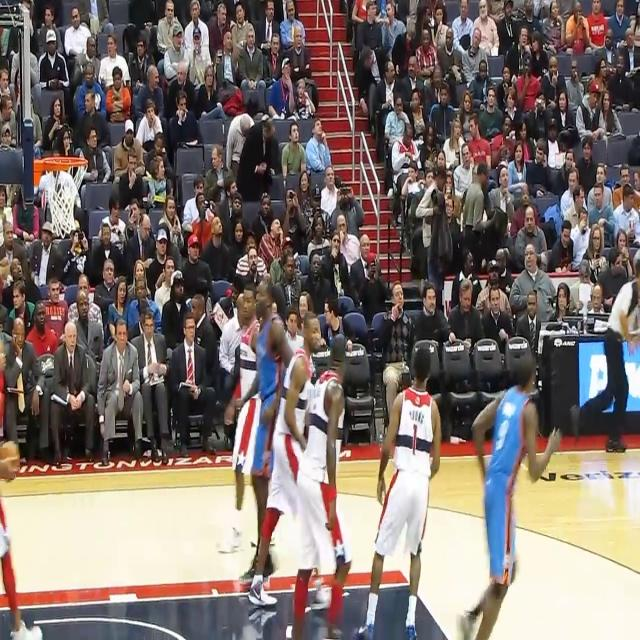ball: (0, 439, 21, 481)
